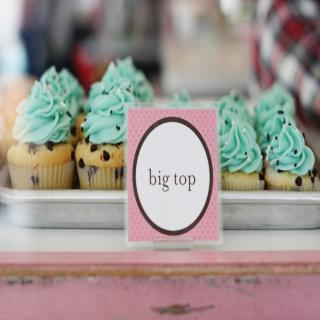Cake: (211, 89, 319, 194), (0, 64, 84, 192), (74, 55, 141, 189)
Muffin: (6, 55, 314, 189), (8, 97, 77, 188)
